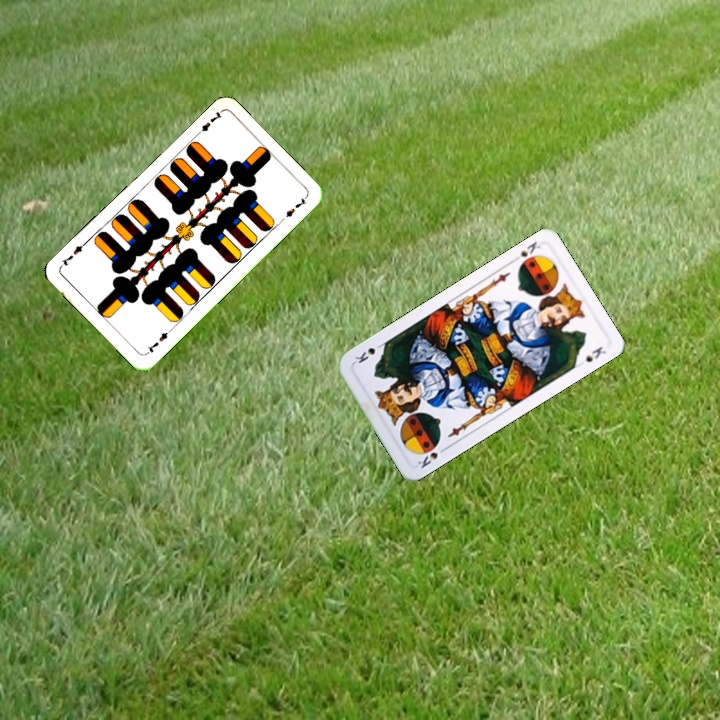E7: (192, 107, 225, 139), (142, 325, 174, 357)
SK: (413, 440, 450, 471), (509, 237, 543, 265)
